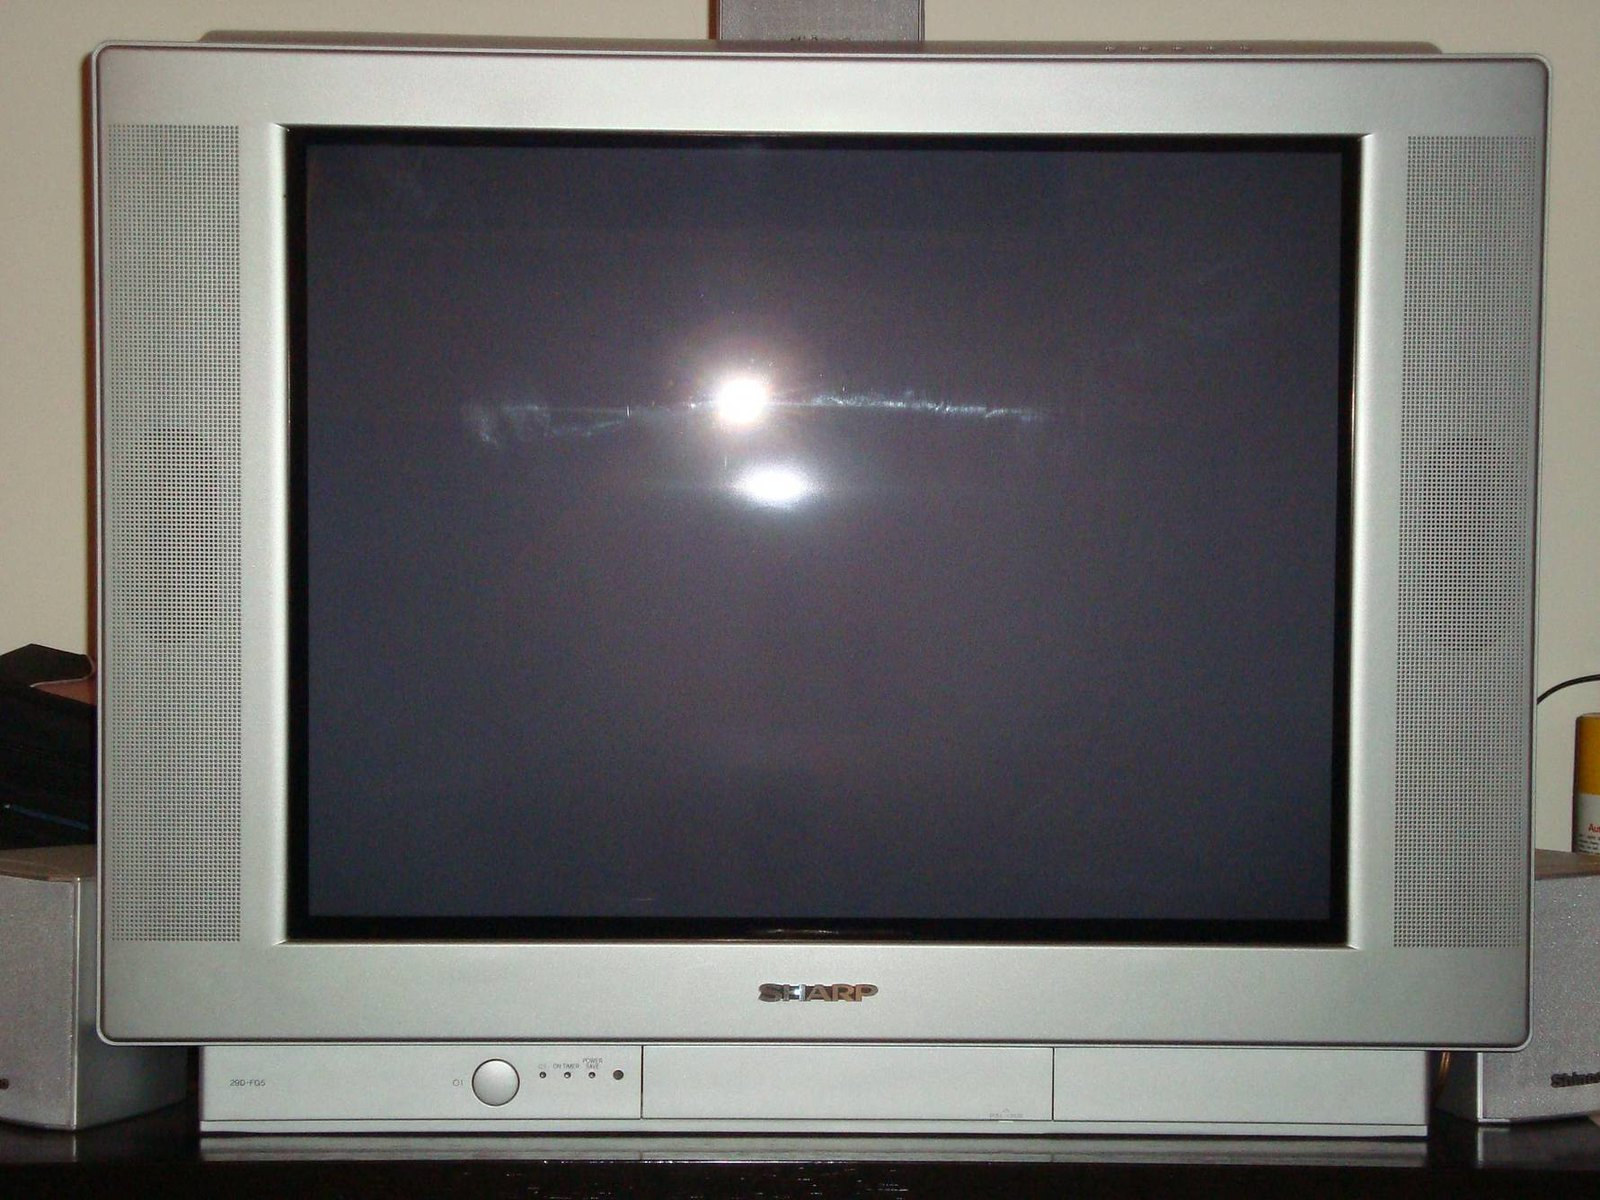tv monitor: (87, 34, 1536, 1139)
